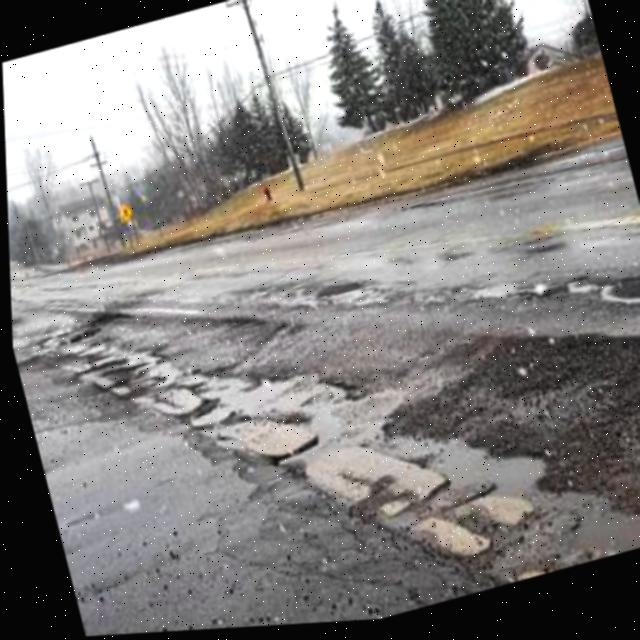Pothole: (405, 414, 546, 524), (541, 482, 640, 576), (55, 301, 136, 353), (260, 434, 323, 481), (308, 364, 355, 416), (516, 282, 568, 321), (96, 372, 137, 414), (244, 374, 275, 402)
